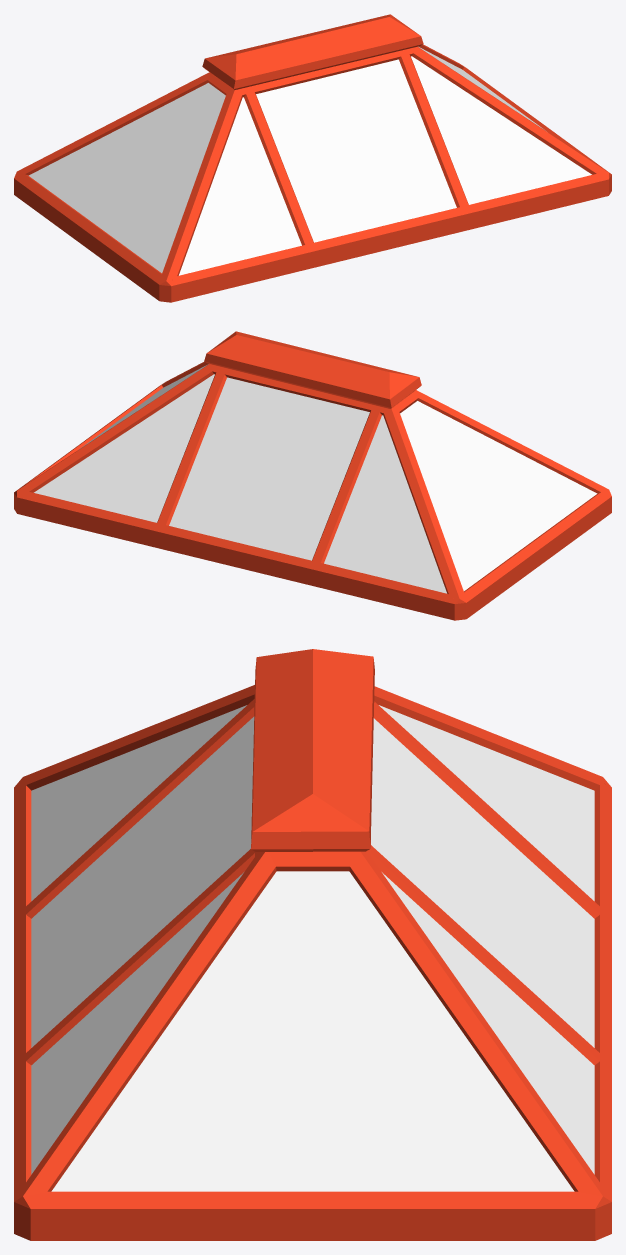
File: SM_Window_Roof_A_City.fbx
3 renders of one model, top to bottom at view 1: azimuth 30°, elevation 25°; view 2: azimuth 150°, elevation 25°; view 3: azimuth 270°, elevation 25°, orthographic. The views are drawn at different scales.
Parts seen in each view (by area): view 1: SM_Window_Roof_A_City; view 2: SM_Window_Roof_A_City; view 3: SM_Window_Roof_A_City.
Part boxes in pixels (box(x1,y1,x2,y2)): SM_Window_Roof_A_City: box(14, 14, 611, 302); SM_Window_Roof_A_City: box(14, 331, 611, 620); SM_Window_Roof_A_City: box(14, 649, 611, 1240).
Size of the model in its own units: 2.84 by 0.9431 by 1.67.
